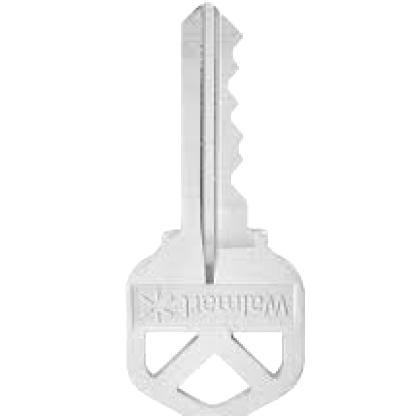key: (127, 0, 306, 416)
